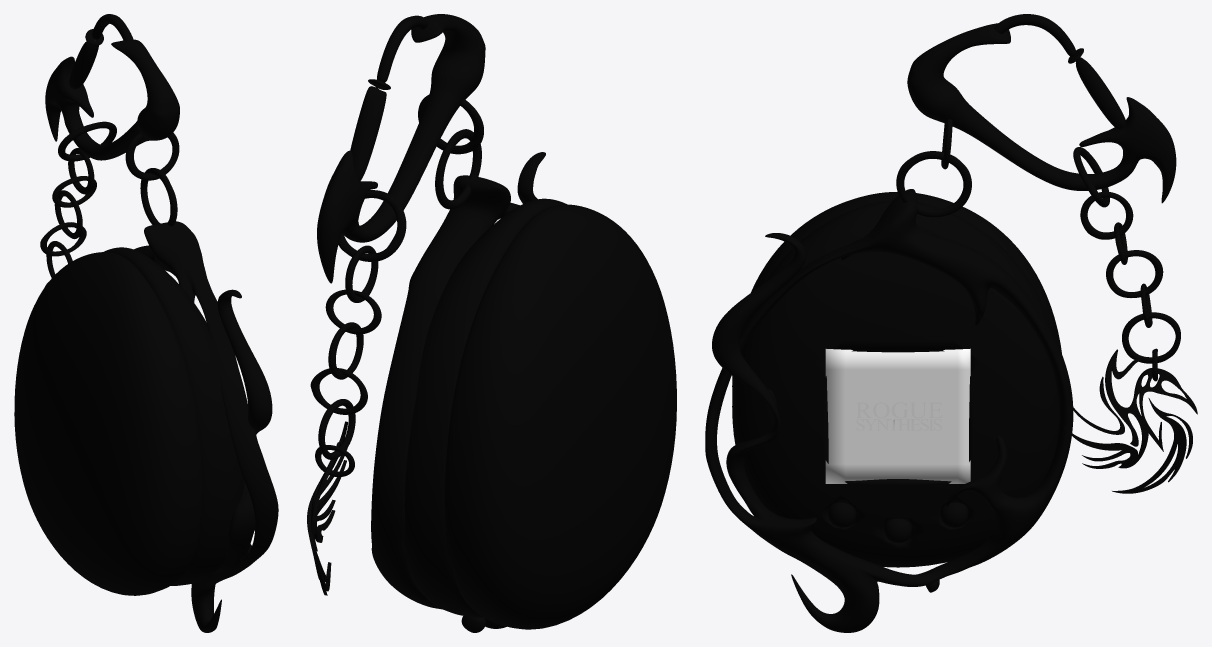
3 views of the same model, side by side, from view 1: azimuth 30°, elevation 25°; view 2: azimuth 150°, elevation 25°; view 3: azimuth 270°, elevation 25° (orthographic). The views are drawn at different scales.
Parts seen in each view (by area): view 1: Curve.035; view 2: Curve.035; view 3: Curve.035.
Boxes of the visible parts, x1,y1,x2,y2 form: Curve.035: [14, 14, 278, 632]; Curve.035: [307, 14, 676, 632]; Curve.035: [705, 14, 1197, 632].
Size of the model in its own units: 3.22 by 10.83 by 7.88.
4 materials, 2 textured.
